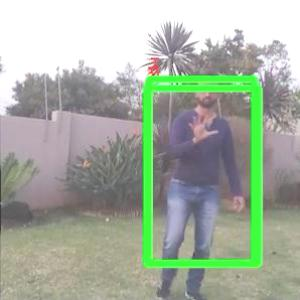follow_hand: (186, 108, 219, 146)
